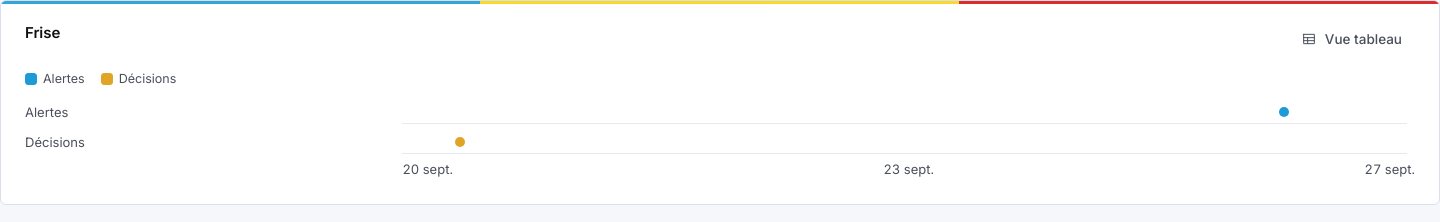
Scenario: TimelineStrip et ChartGrid › points par catégorie, légende, infobulle, tableau chronologique en jours de Kinshasa
Later steps or results of the test are not shown.
Check: the list items read "Alertes", "Décisions", in this order, box [25,69,85,88]; [101,69,176,88]
Step 1. Focus the picture named "2026-09-27 — Alertes : Écart" → (1284, 112), box [1279,107,1289,117]
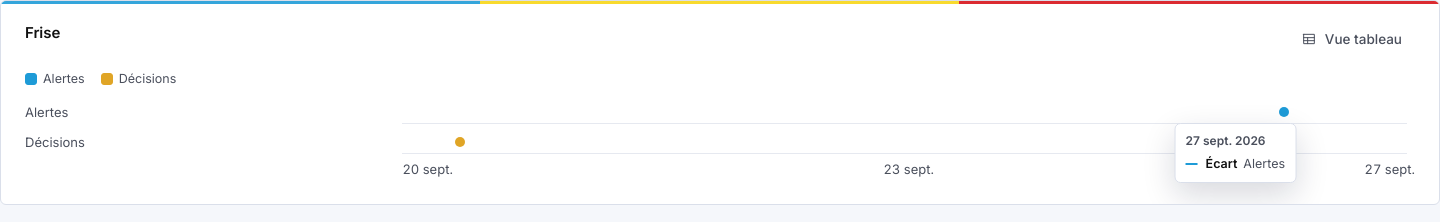
Check: the tooltip shows "Écart", box [1206,156,1237,172]
